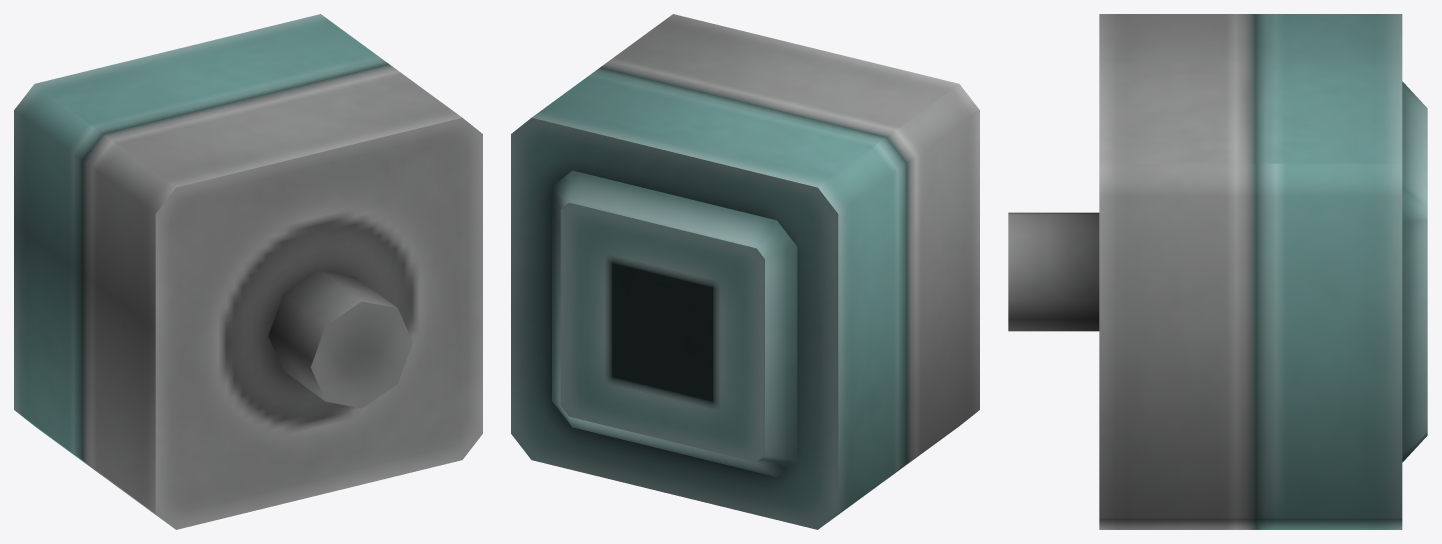
Rendered from Ara_SensorGravimeter_1.obj.
3 views of the same model, side by side, from view 1: azimuth 30°, elevation 25°; view 2: azimuth 150°, elevation 25°; view 3: azimuth 270°, elevation 25° (orthographic). The views are drawn at different scales.
Parts seen in each view (by area): view 1: Ara_SensorGravimeter_1; view 2: Ara_SensorGravimeter_1; view 3: Ara_SensorGravimeter_1.
Boxes of the visible parts, x1,y1,x2,y2 form: Ara_SensorGravimeter_1: (14, 14, 482, 529); Ara_SensorGravimeter_1: (511, 14, 979, 529); Ara_SensorGravimeter_1: (1008, 14, 1427, 529).
Bounding box in the file's own units: 0.2 × 0.2 × 0.2075.
